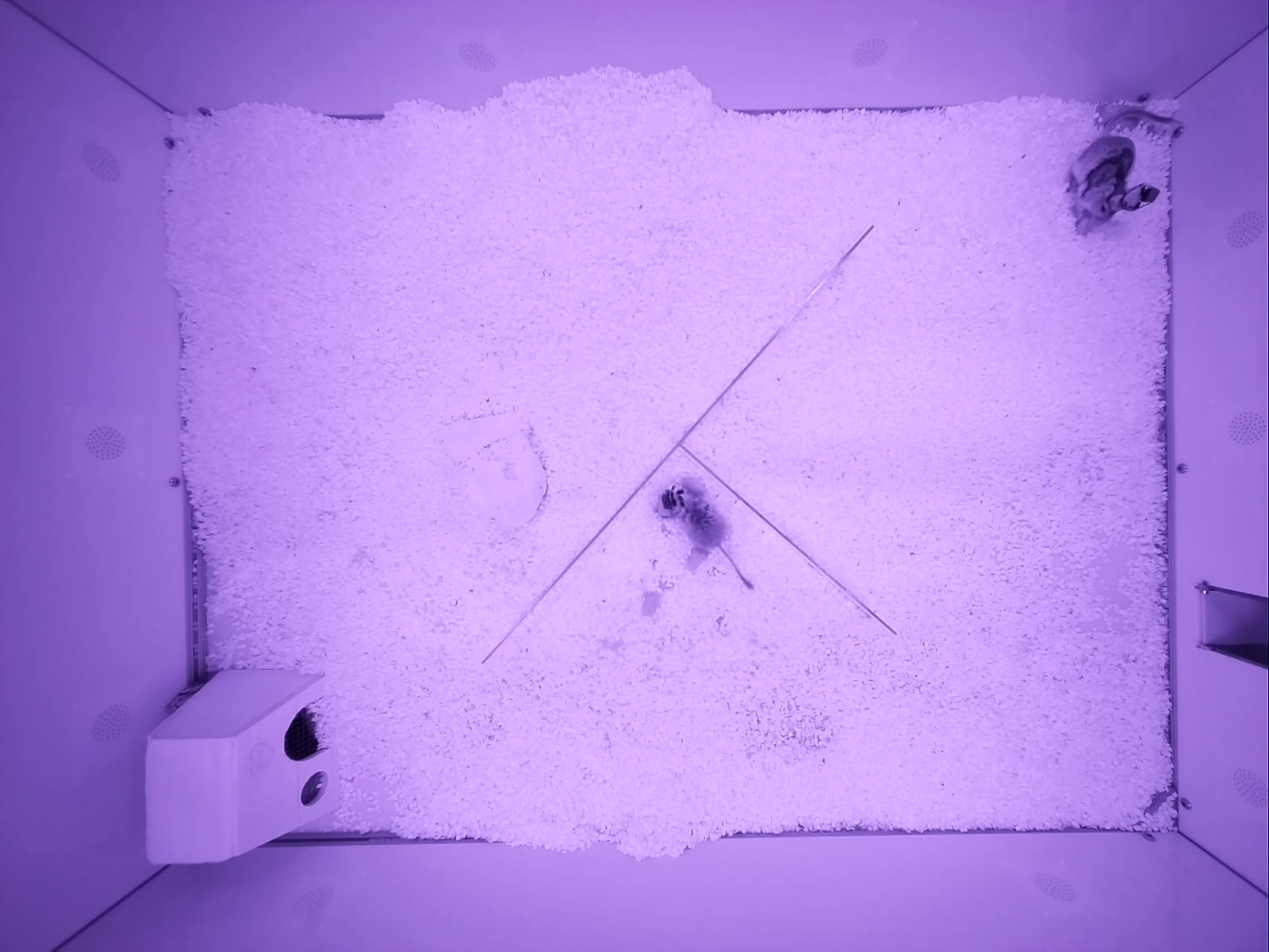adult_back: (1068, 106, 1183, 233), (658, 479, 753, 589)
